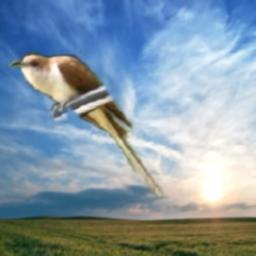Cuckoo: (10, 51, 164, 199)
